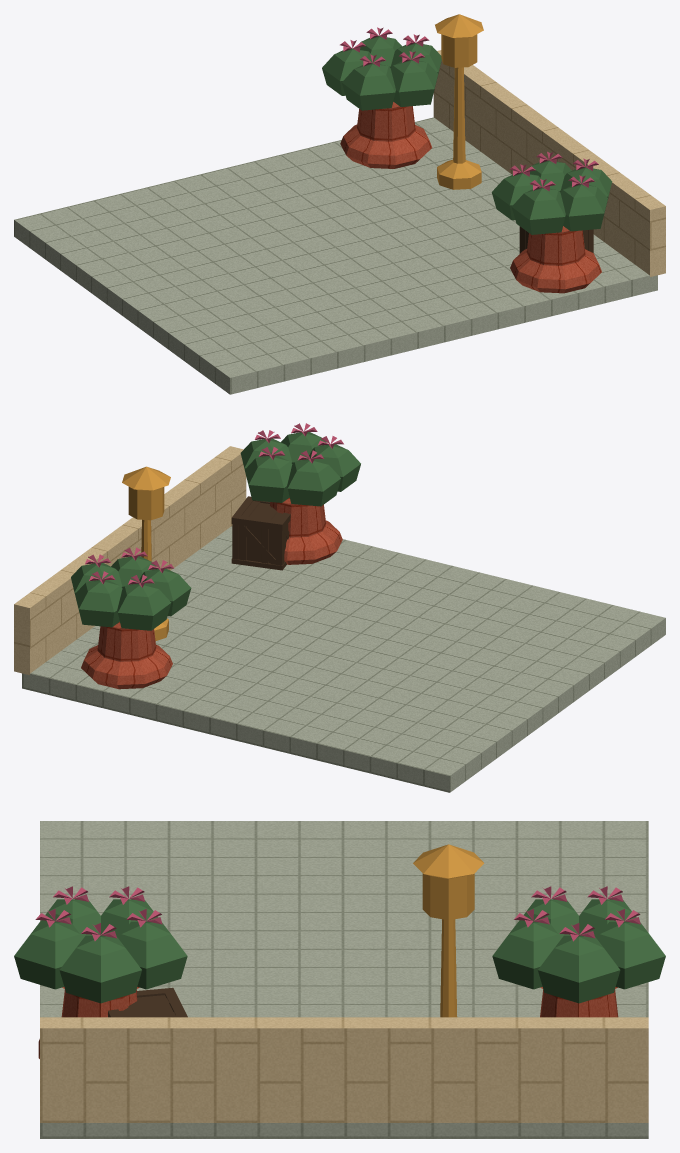
File: district-vestibule.obj
3 renders of one model, top to bottom at view 1: azimuth 30°, elevation 25°; view 2: azimuth 150°, elevation 25°; view 3: azimuth 270°, elevation 25°, orthographic. The views are drawn at different scales.
Size of the model in its own units: 8.15 by 3.27 by 7.5.
8 materials, 3 textured.
